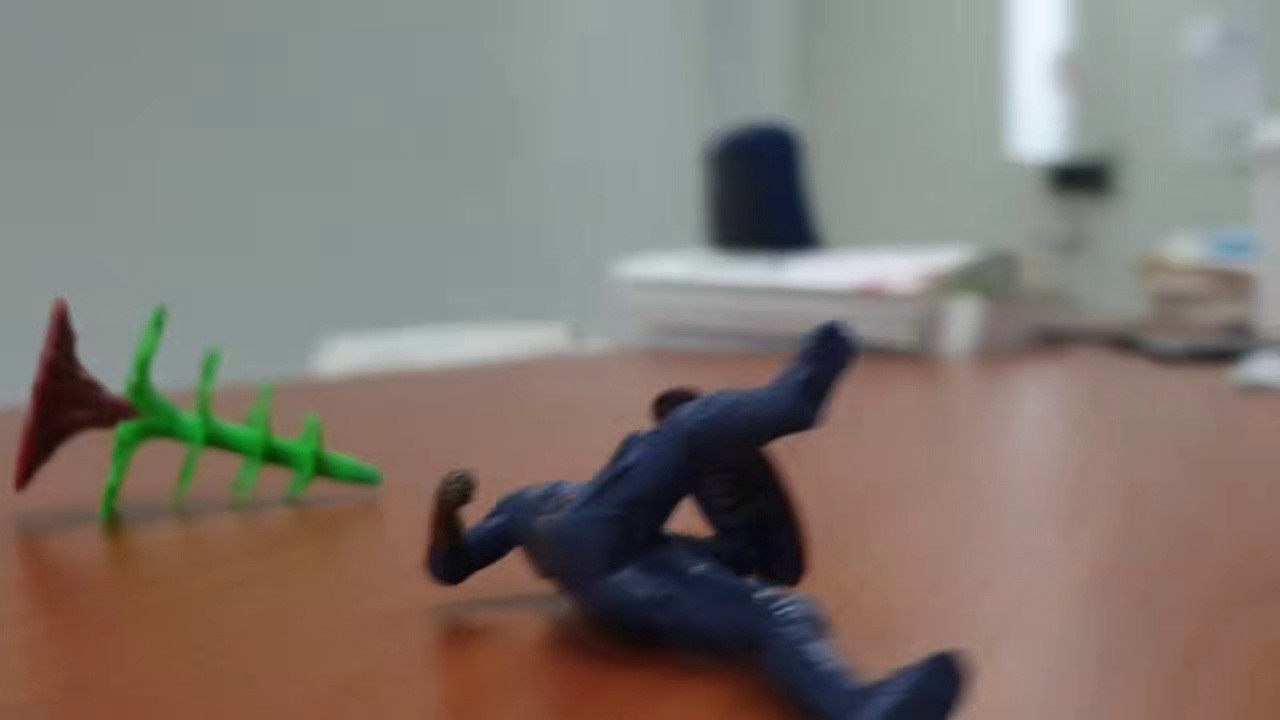people: (425, 318, 965, 720)
tree: (11, 291, 383, 529)
